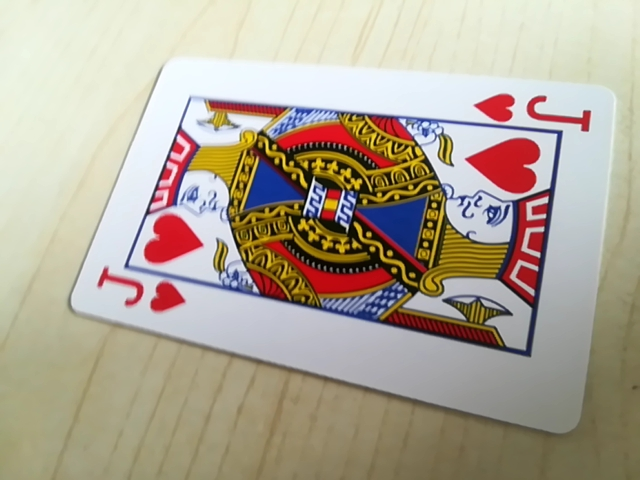hx j: (97, 271, 188, 322), (479, 90, 592, 131)
